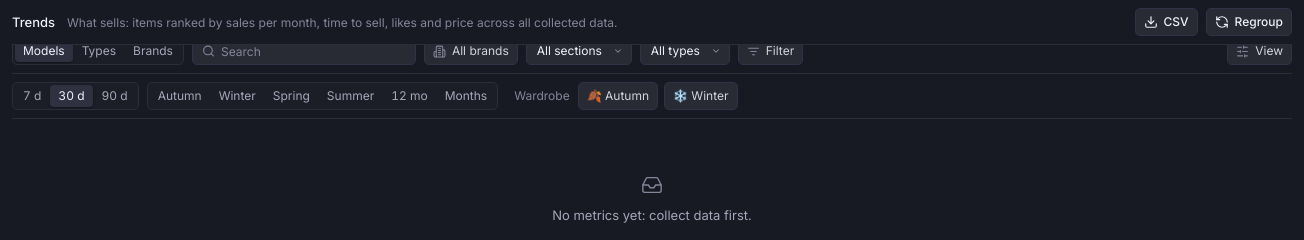
wardrobe season presets › show only seasons with types and filter the season’s types over its period
Click the button "🍂 Autumn".
click(618, 96)  # box top-left (578, 82), bottom-right (658, 110)
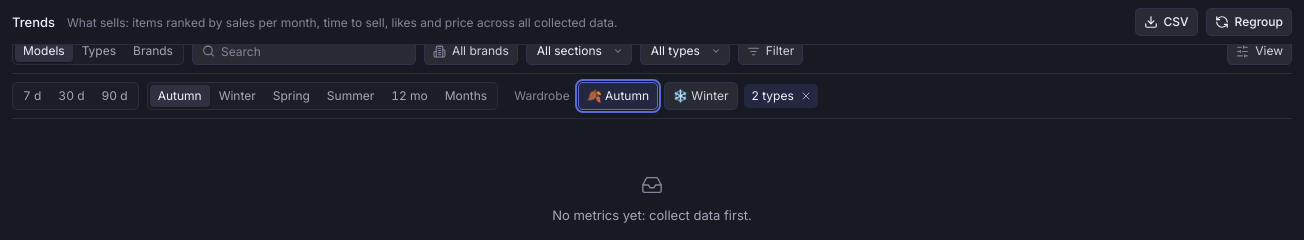
expect the text "2 types" is shown: met, box top-left (744, 84), bottom-right (818, 108)
